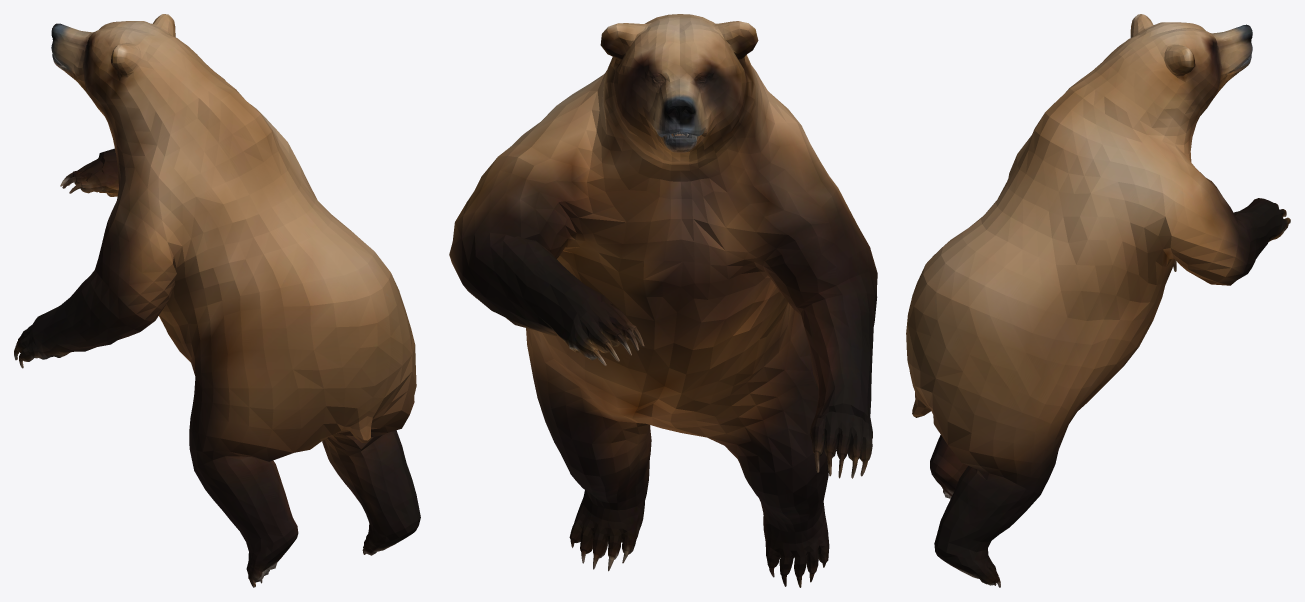
Rendered from bear.mesh.glb.
3 views of the same model, side by side, from view 1: azimuth 30°, elevation 25°; view 2: azimuth 150°, elevation 25°; view 3: azimuth 270°, elevation 25° (orthographic). The views are drawn at different scales.
Parts seen in each view (by area): view 1: root; view 2: root; view 3: root.
Part boxes in pixels (x1,y1,x2,y2): root: [14, 14, 420, 587]; root: [449, 14, 877, 587]; root: [906, 14, 1290, 587].
Bounding box in the file's own units: 0.3528 × 0.5384 × 0.3845.
1 material, 1 textured.
